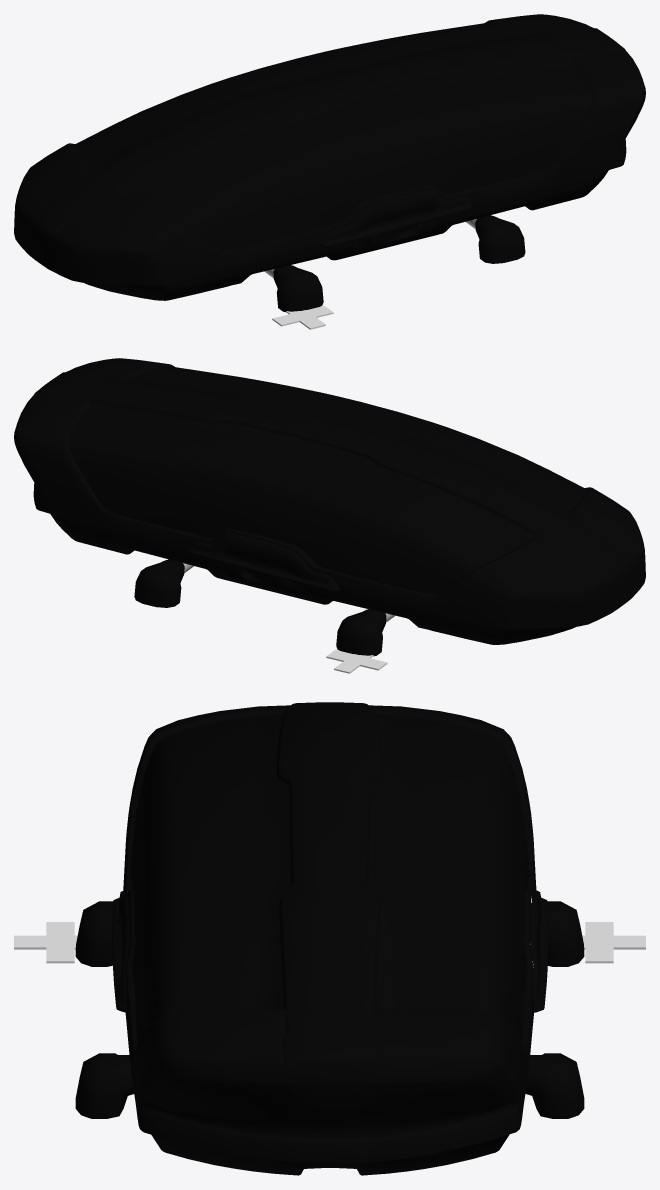
Rendered from Animition.glb.
3 renders of one model, top to bottom at view 1: azimuth 30°, elevation 25°; view 2: azimuth 150°, elevation 25°; view 3: azimuth 270°, elevation 25°, orthographic. The views are drawn at different scales.
Parts seen in each view (by area): view 1: XT_XL_low, Box013, Box011, Box007; view 2: XT_XL_low, Box012, Box010, Box009; view 3: XT_XL_low, Box012, Box013, Box010, Box011, Box009, Box007, Box006, Box008.
Boxes of the visible parts, x1,y1,x2,y2 form: XT_XL_low: (14, 14, 645, 300); Box013: (475, 215, 525, 263); Box011: (273, 265, 323, 312); Box007: (272, 306, 333, 326); XT_XL_low: (14, 358, 645, 644); Box012: (134, 559, 184, 607); Box010: (336, 609, 386, 656); Box009: (326, 650, 387, 670); XT_XL_low: (112, 702, 548, 1175); Box012: (525, 1053, 584, 1118); Box013: (75, 1053, 134, 1118); Box010: (530, 901, 584, 966); Box011: (75, 901, 128, 966); Box009: (585, 922, 613, 963); Box007: (46, 922, 74, 963); Box006: (14, 935, 77, 949); Box008: (582, 935, 645, 949).
Size of the model in its own units: 2.14 by 0.4946 by 1.32.
Materials: 4 (2 with a texture image).
